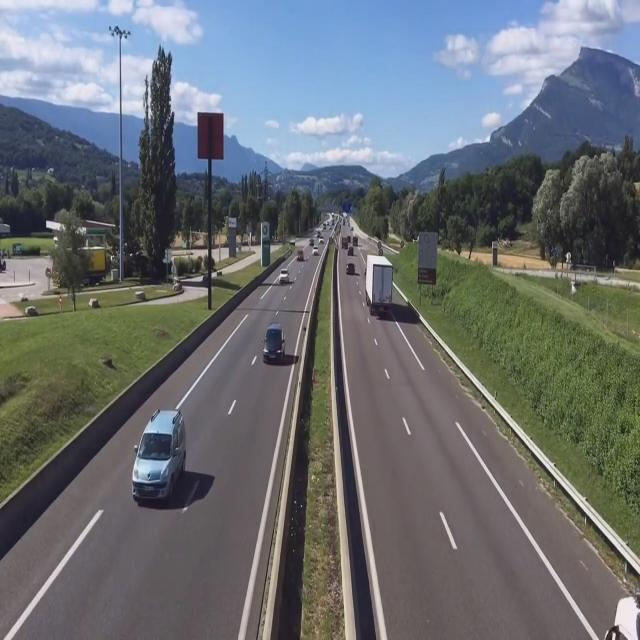car: (129, 410, 188, 509), (264, 323, 286, 367), (278, 268, 291, 285)
truck: (366, 257, 392, 321)
